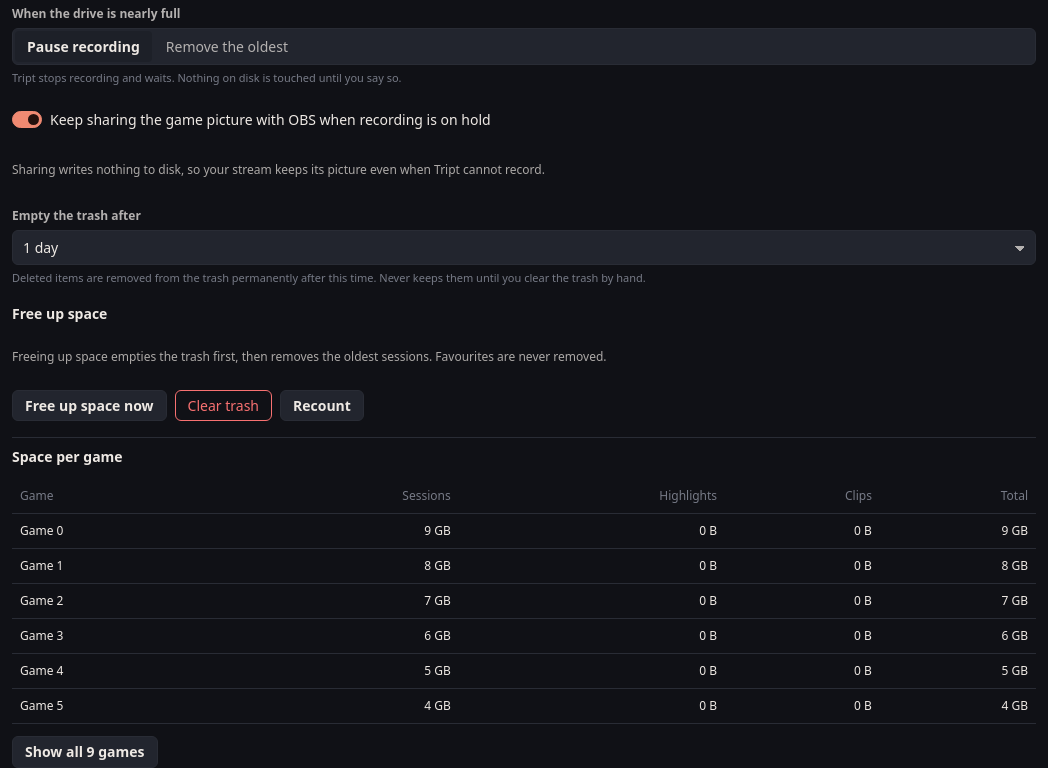
StoragePage › shows only the biggest games until asked for the rest
The image size is (1048, 768).
(page scrolled)
Expected: the text "Game 7" is not shown
Step 1. Click the button "Show all 9 games" → click(85, 752), box [12, 736, 158, 767]
(page scrolled)
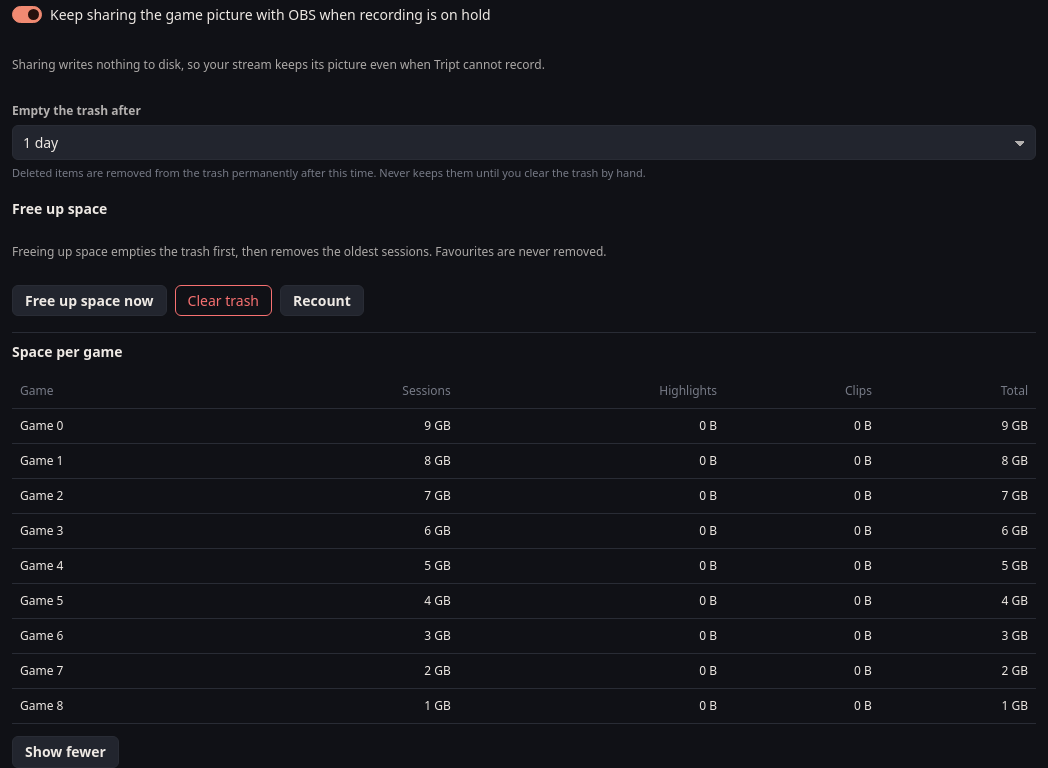
Now the text "Game 7" is shown, box [12, 654, 226, 688]
Step 2. Click the button "Show fewer" → click(66, 752), box [12, 736, 119, 767]
(page scrolled)
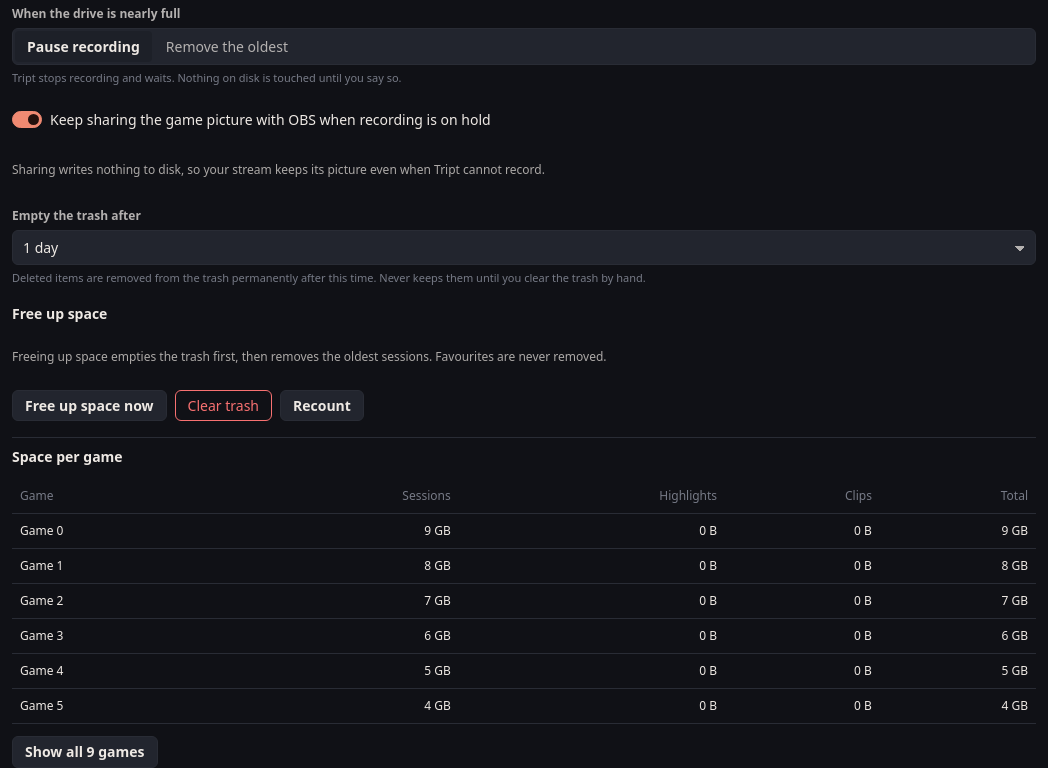
Now the text "Game 7" is gone
